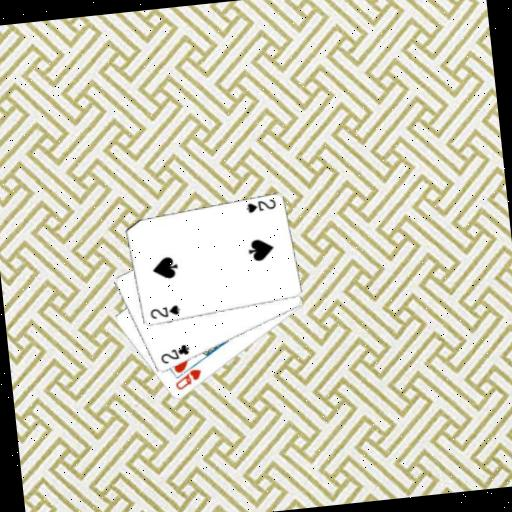2C: (157, 341, 193, 366)
2S: (242, 196, 278, 216), (147, 302, 183, 321)
QH: (171, 366, 205, 393)
